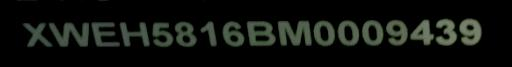letter: (46, 19, 90, 50), (275, 16, 313, 49), (243, 16, 277, 49), (86, 17, 122, 48), (18, 19, 56, 48), (116, 19, 152, 48), (310, 16, 338, 49), (408, 16, 436, 49), (218, 17, 246, 48), (172, 18, 200, 49), (383, 16, 409, 49), (456, 16, 482, 47), (335, 17, 361, 48), (359, 18, 385, 49), (197, 17, 221, 50), (148, 20, 174, 47), (434, 17, 458, 46)
